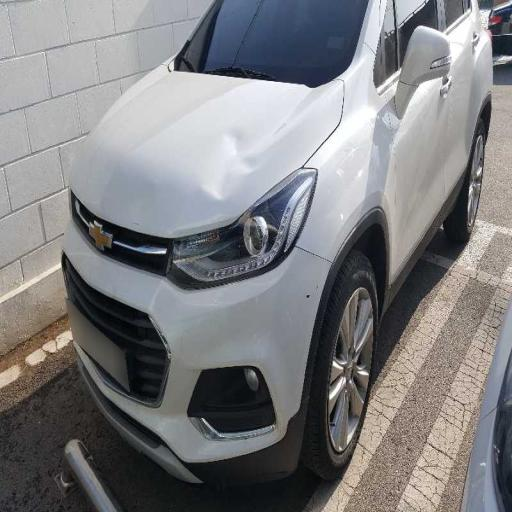dent: (170, 97, 282, 248)
